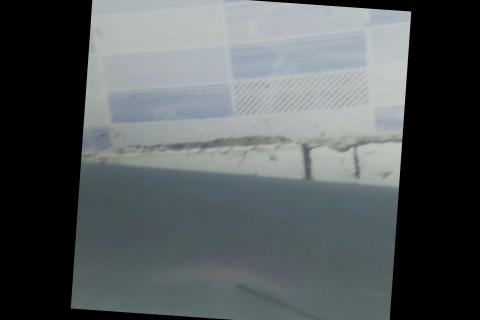keretakan: (227, 281, 391, 320)
